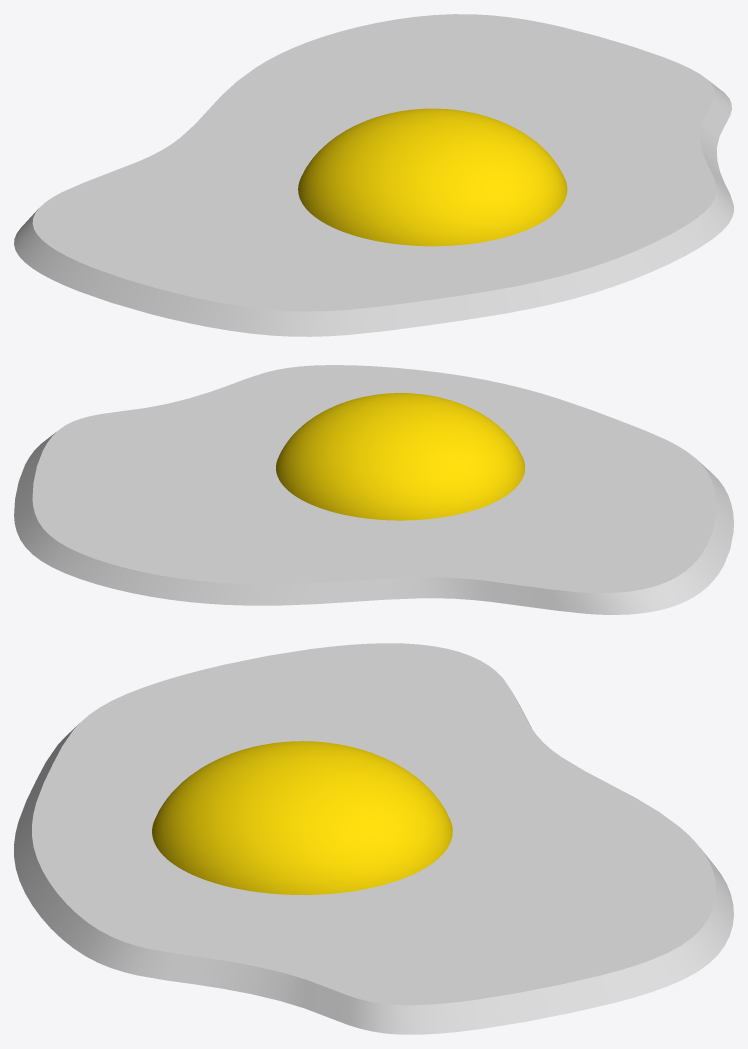
The model's file is medamayaki3.gltf.
3 renders of one model, top to bottom at view 1: azimuth 30°, elevation 25°; view 2: azimuth 150°, elevation 25°; view 3: azimuth 270°, elevation 25°, orthographic. The views are drawn at different scales.
Bounding box in the file's own units: 40.9 × 4.46 × 32.65.
